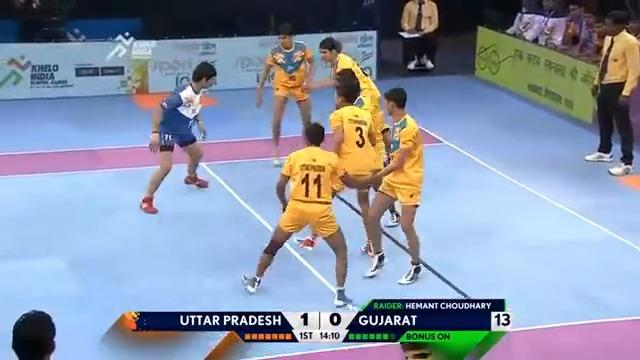Player: (237, 118, 391, 309), (362, 85, 426, 286), (254, 22, 316, 167), (321, 33, 392, 117)
Raider: (137, 59, 219, 215)
referee: (583, 9, 639, 176), (399, 0, 439, 71)
